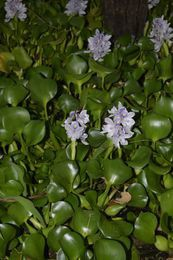water_hyacinth: (0, 1, 173, 260)
